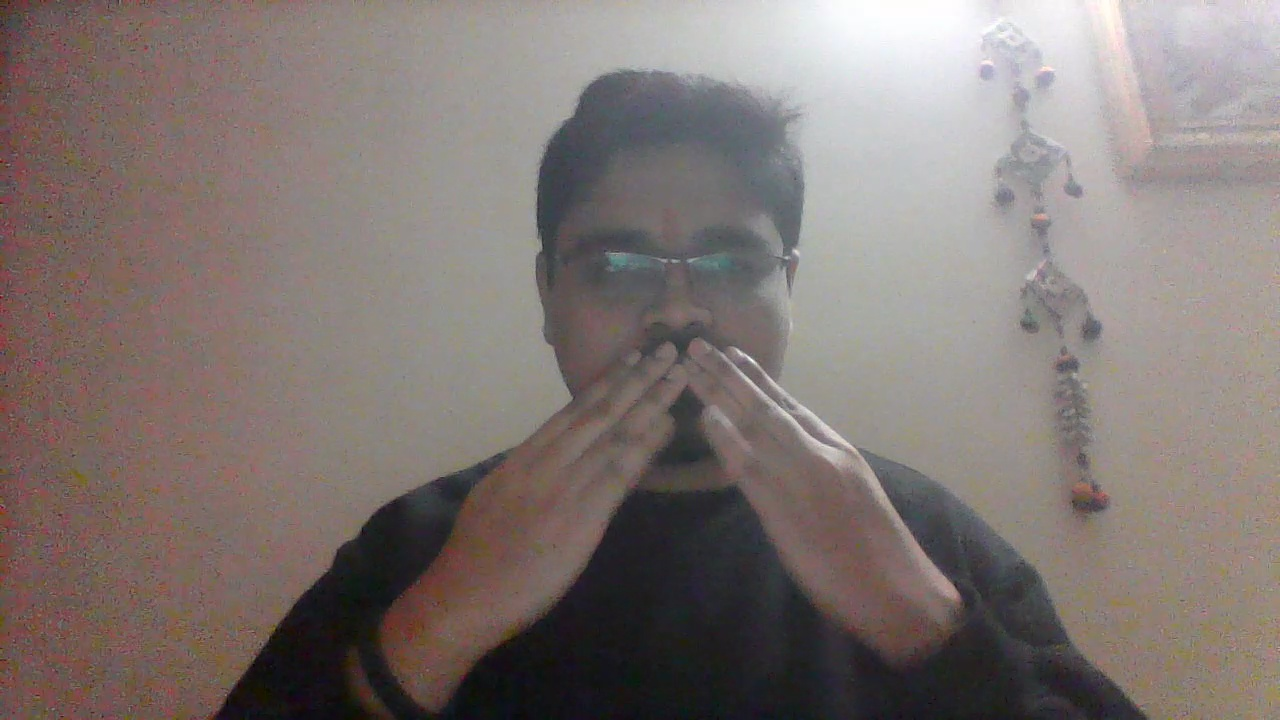Thanks: (417, 334, 922, 653)
